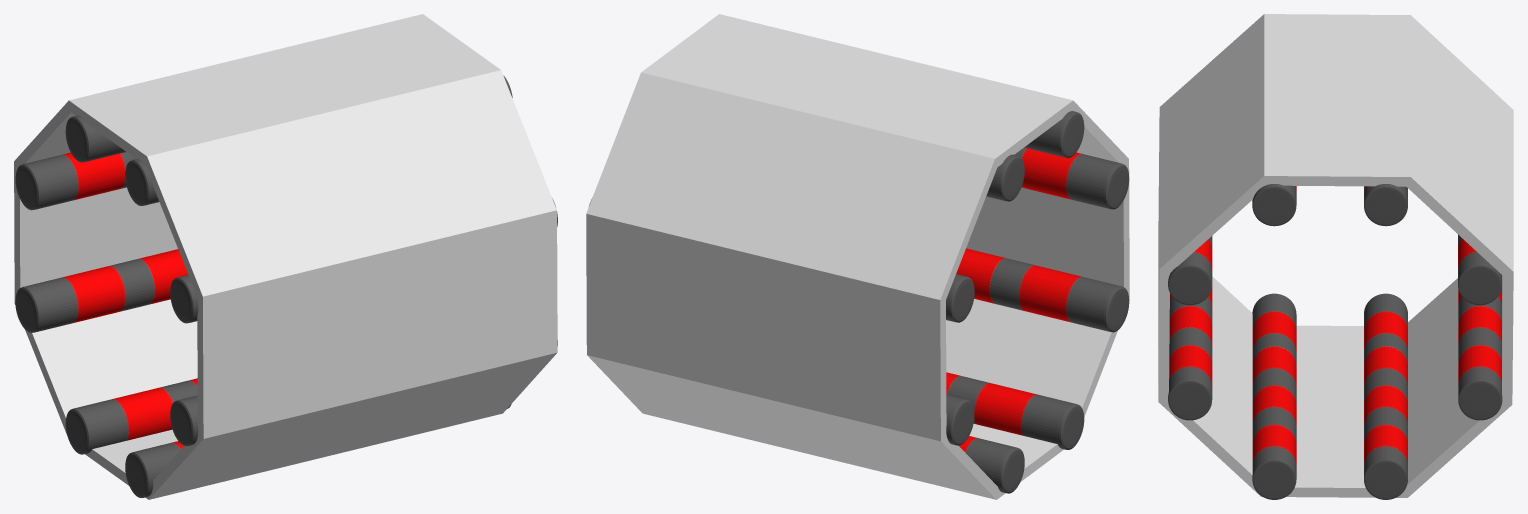
The model's file is Particle Accelerator10.fbx.
3 renders of one model, left to right at view 1: azimuth 30°, elevation 25°; view 2: azimuth 150°, elevation 25°; view 3: azimuth 270°, elevation 25°, orthographic. The views are drawn at different scales.
Visible parts, largest first — view 1: Cylinder; view 2: Cylinder; view 3: Cylinder.
Boxes of the visible parts, <box> form: Cylinder: <box>14,14,557,499</box>; Cylinder: <box>586,14,1129,499</box>; Cylinder: <box>1158,14,1513,499</box>.
Size of the model in its own units: 207 by 185 by 185.
2 materials, 1 textured.
